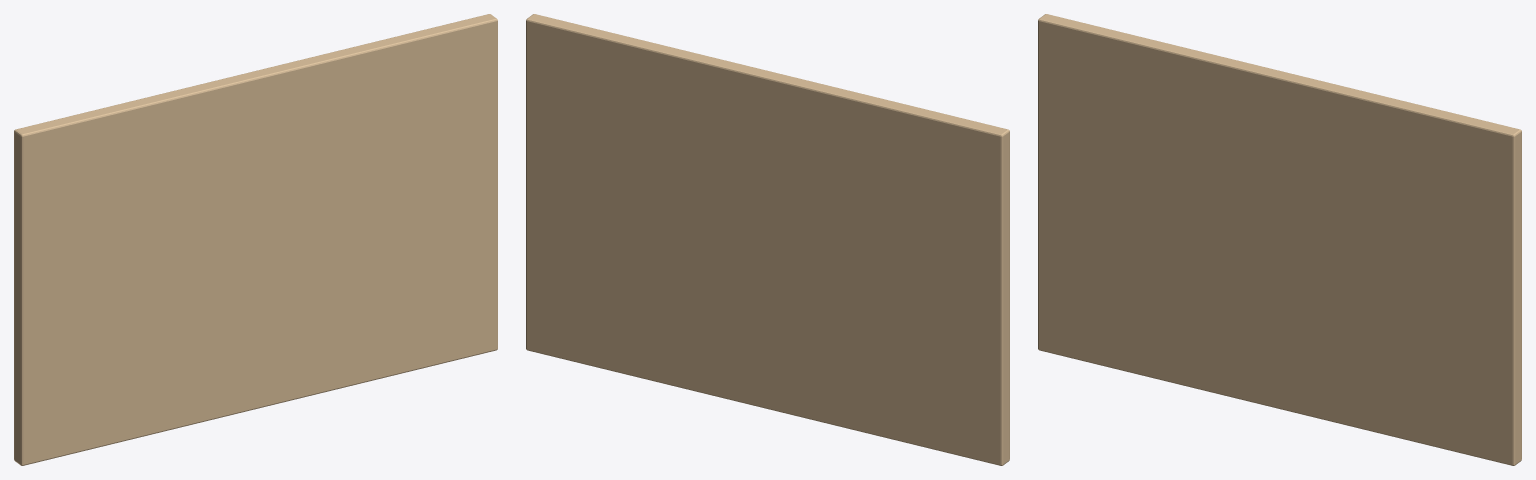
The model's file is DOOR_HORIZONTAL_600x400.glb.
3 views of the same model, side by side, from view 1: azimuth 30°, elevation 25°; view 2: azimuth 150°, elevation 25°; view 3: azimuth 330°, elevation 25° (orthographic).
Visible parts, largest first — view 1: front_panel_01; view 2: front_panel_01; view 3: front_panel_01.
Part boxes in pixels (left/top/right/bottom): front_panel_01: left=14, top=14, right=497, bottom=465; front_panel_01: left=526, top=14, right=1009, bottom=465; front_panel_01: left=1038, top=14, right=1521, bottom=465.
Size of the model in its own units: 0.596 by 0.396 by 0.018.
